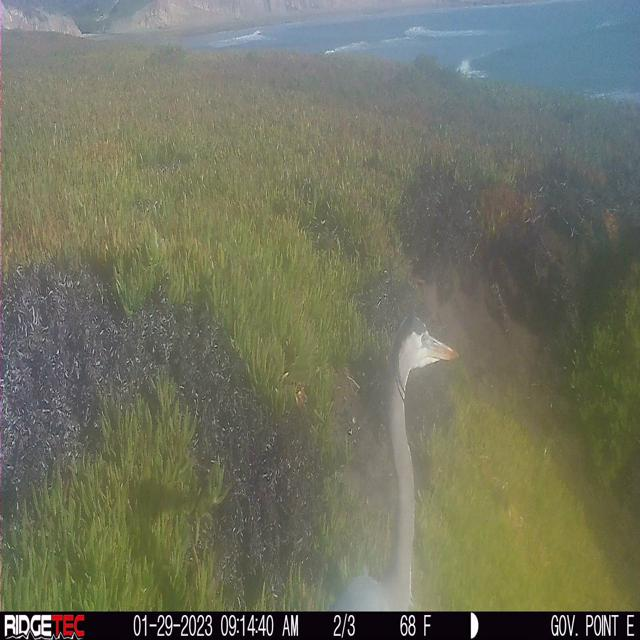bird: (328, 312, 461, 609)
